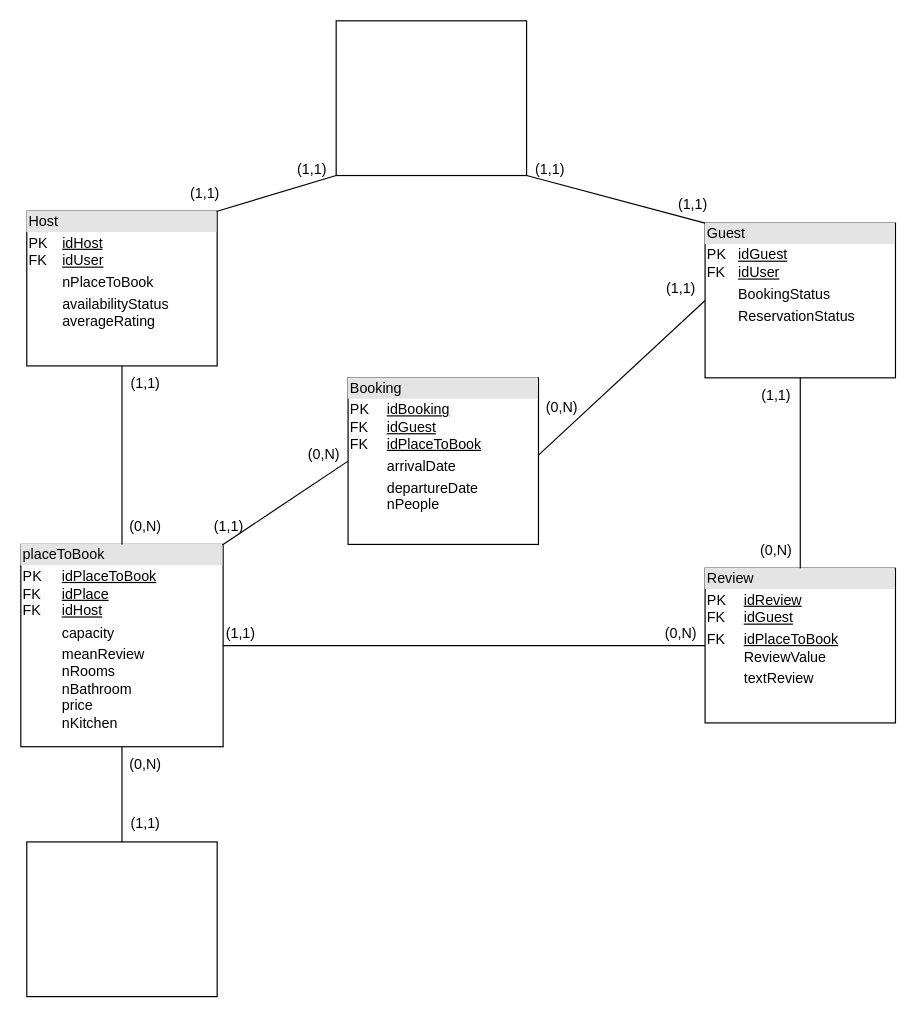
Image size: 916x1017. Some labels were removed from this diagram. The box of each missing label's shape, as (x1, y1, x2, y2) in pixels:
Place PK idPlace state country adress city: (26, 841, 217, 997)
User PK idUser name email password phoneNumber: (335, 20, 527, 176)
